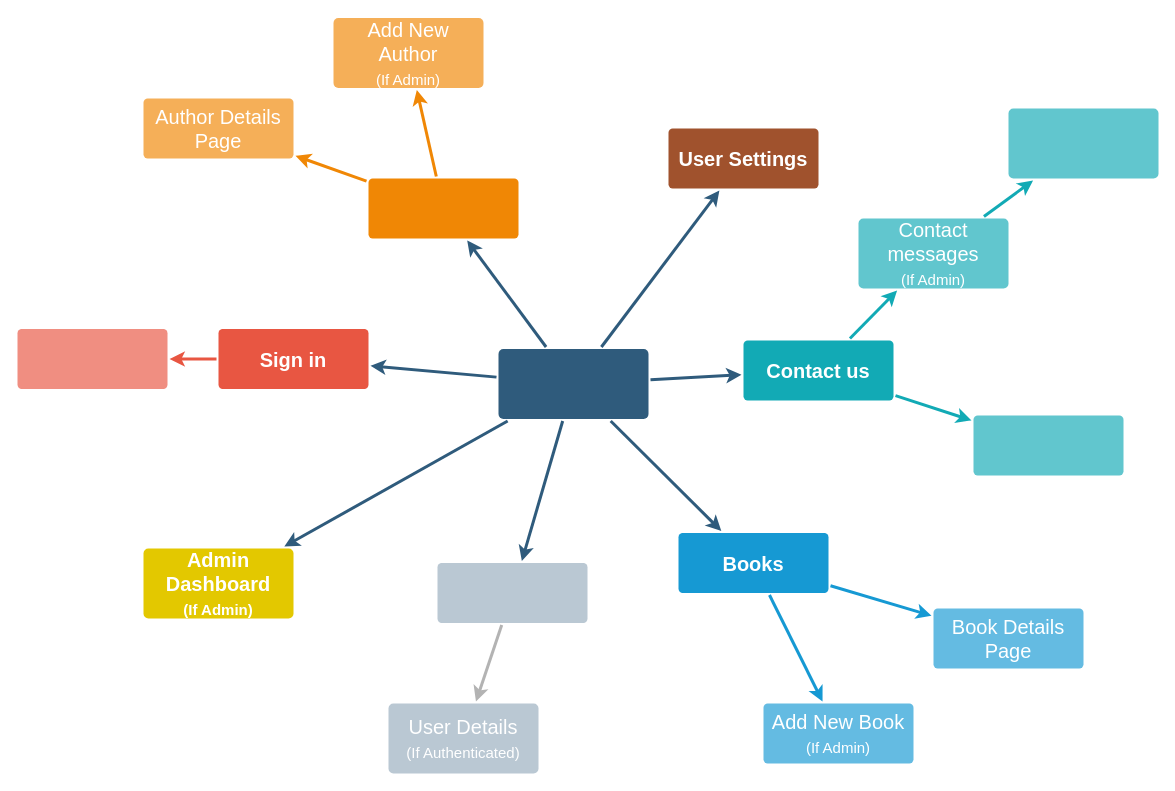
Some shapes in this 1175 by 791 pixel diagram are drawn without their labels. The shapes that lost their labels are listed below. From the top down, each one's centre as x and y in pixels, then its label:
At (x=1083, y=143): "Contact message (If Admin)".
At (x=443, y=208): "Authors".
At (x=92, y=358): "Register".
At (x=573, y=383): "HomePage".
At (x=1048, y=445): "Contact form".
At (x=512, y=592): "Users (If Authenticated)".
